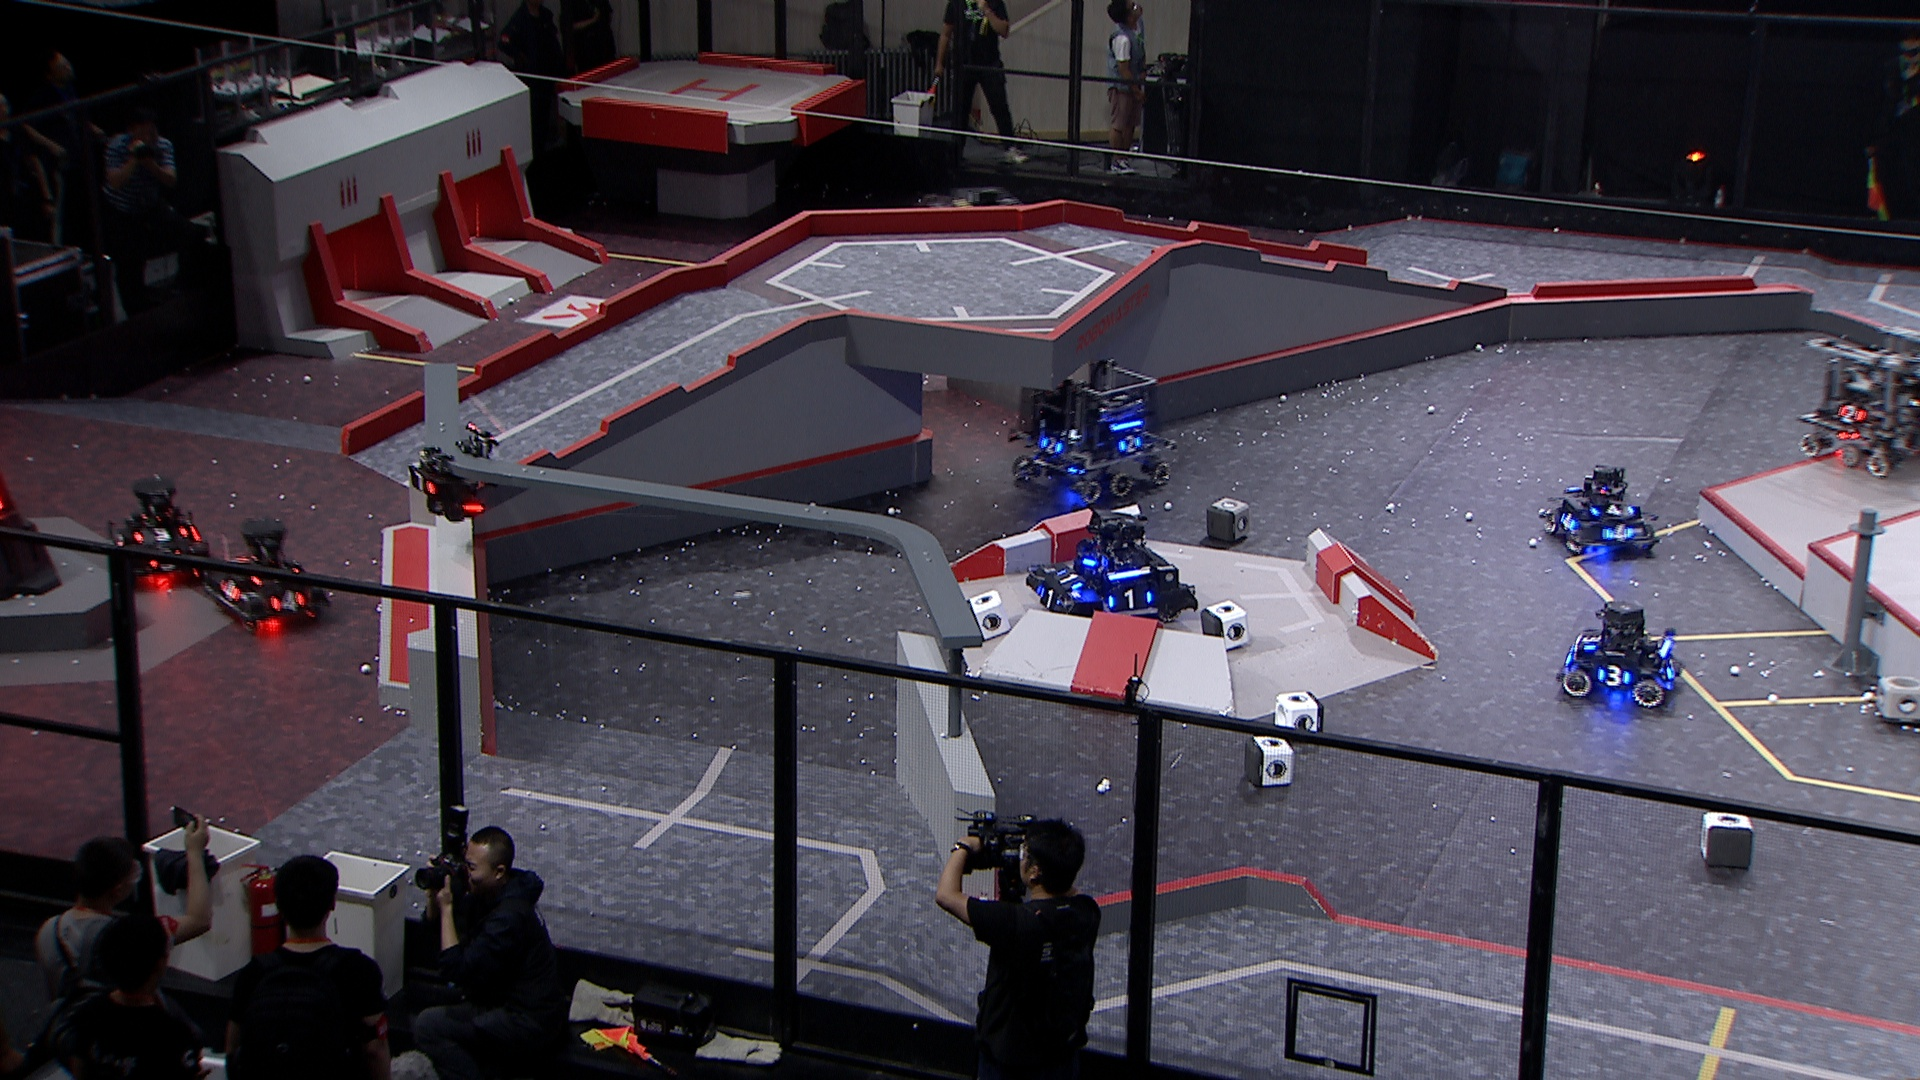armor: (1106, 588, 1154, 613), (131, 526, 190, 546), (1596, 662, 1633, 688), (407, 465, 438, 496), (1590, 500, 1636, 520), (272, 591, 306, 613), (1837, 404, 1869, 427), (1604, 522, 1636, 545), (1117, 433, 1145, 455), (1055, 568, 1083, 591), (218, 580, 243, 604), (1039, 584, 1062, 611), (1578, 629, 1604, 651), (1557, 509, 1578, 534), (1039, 436, 1064, 458), (1664, 655, 1680, 683)
car: (1007, 352, 1179, 505), (1026, 502, 1201, 632), (1792, 330, 1920, 480), (204, 516, 328, 633), (1556, 599, 1685, 708), (1539, 465, 1665, 559), (102, 476, 211, 580)
watcher: (405, 423, 502, 524)
